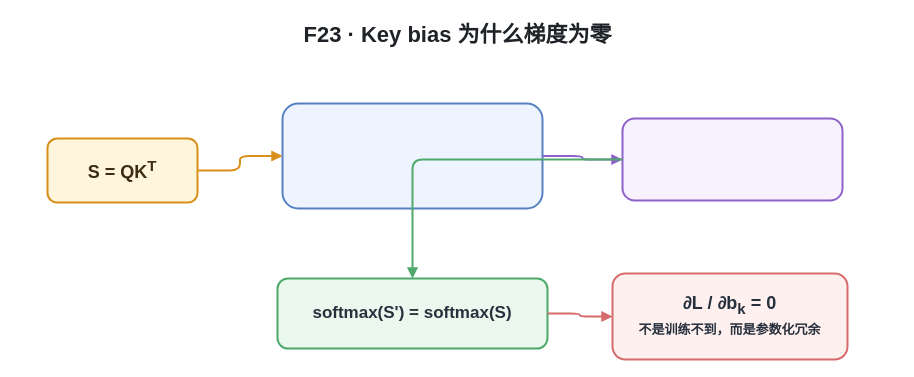
Image size: 914x377. Some labels were removed from this diagram. Each missing label, with the centre of its shape:
"K = XW k + b k b k adds same constant in each row score" belongs at point 412,155.
"S' = S + c · 1 T row-wise constant shift" belongs at point 732,159.
